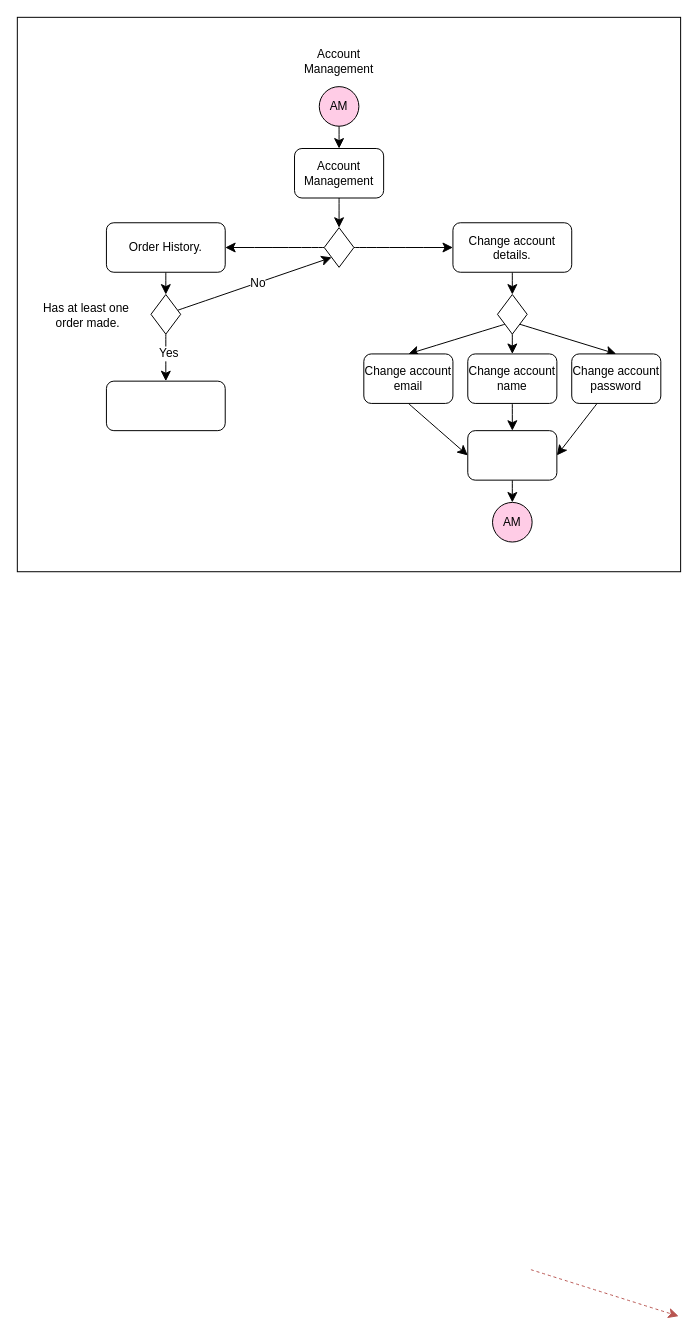
Image size: 698x1336. Some labels were removed from this diagram. The shapes that lost their labels are listed below. From the top down, each one's centre as x and y in pixels, then its label:
At pixel 165 405: "View Order History.".
At pixel 512 455: "Save changes".
